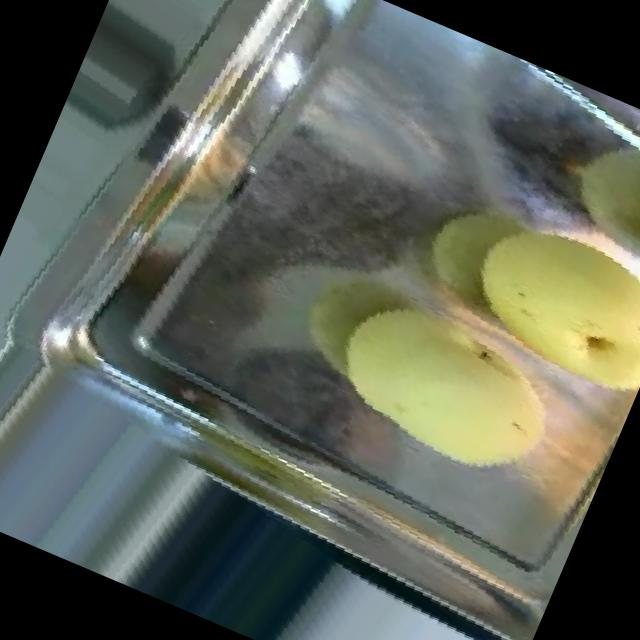Fruit: (297, 231, 640, 532), (421, 151, 640, 432), (597, 120, 640, 298)
